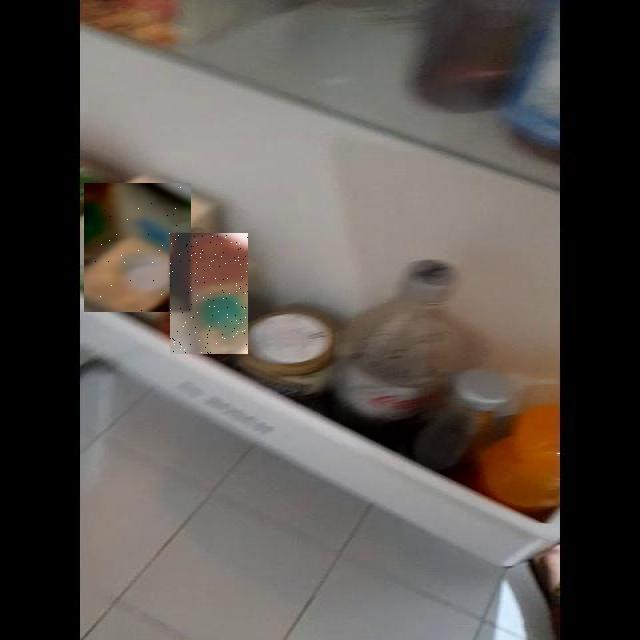Milk: (84, 183, 191, 312)
Sauce: (171, 233, 249, 354)
